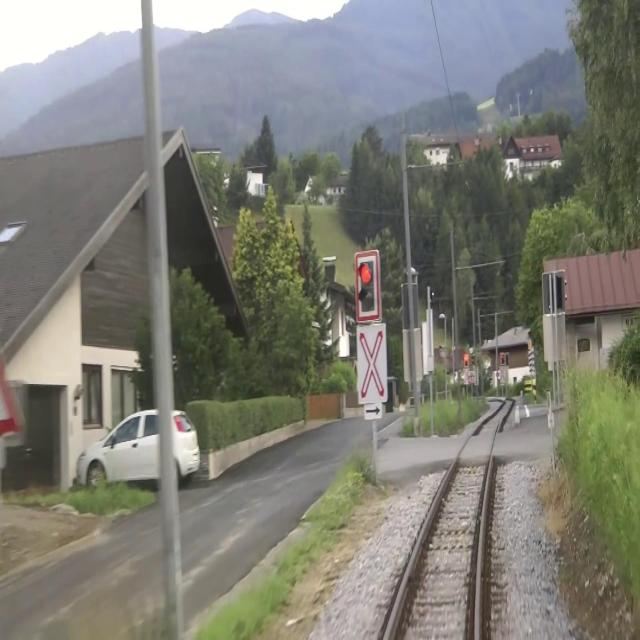rail-track: (388, 399, 510, 639)
